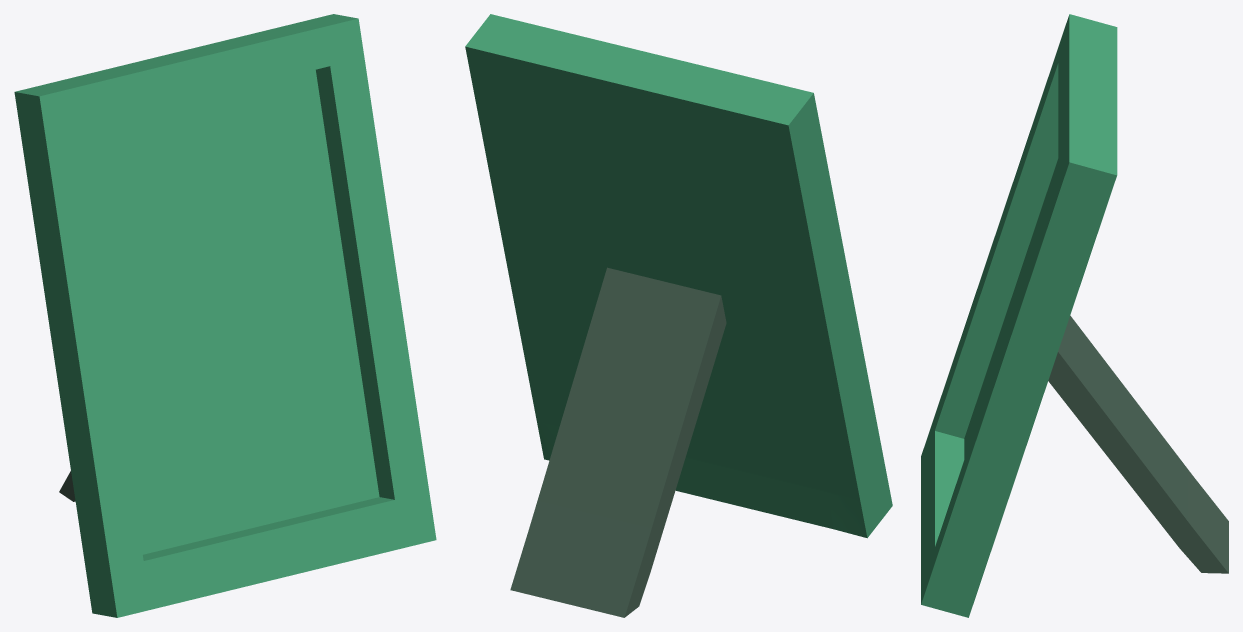
File: portrait_high.fbx
3 renders of one model, left to right at view 1: azimuth 30°, elevation 25°; view 2: azimuth 150°, elevation 25°; view 3: azimuth 270°, elevation 25°, orthographic. The views are drawn at different scales.
Parts seen in each view (by area): view 1: portrait_high; view 2: portrait_high, portrait_stand_high; view 3: portrait_high, portrait_stand_high.
Part boxes in pixels (bbox=[...]): portrait_high: bbox=[14, 14, 436, 617]; portrait_high: bbox=[465, 14, 892, 538]; portrait_stand_high: bbox=[510, 267, 726, 617]; portrait_high: bbox=[921, 14, 1117, 617]; portrait_stand_high: bbox=[1048, 315, 1228, 573].
Bounding box in the file's own units: 5.06 × 7.31 × 4.44.
